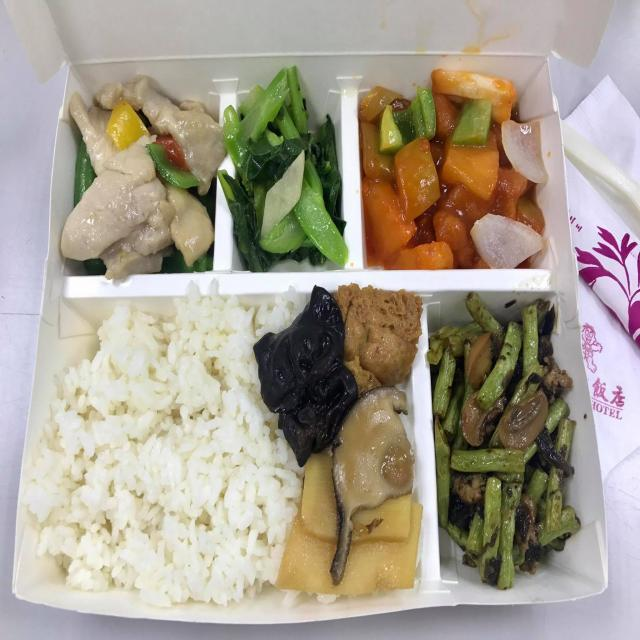Rice: (45, 308, 294, 607)
